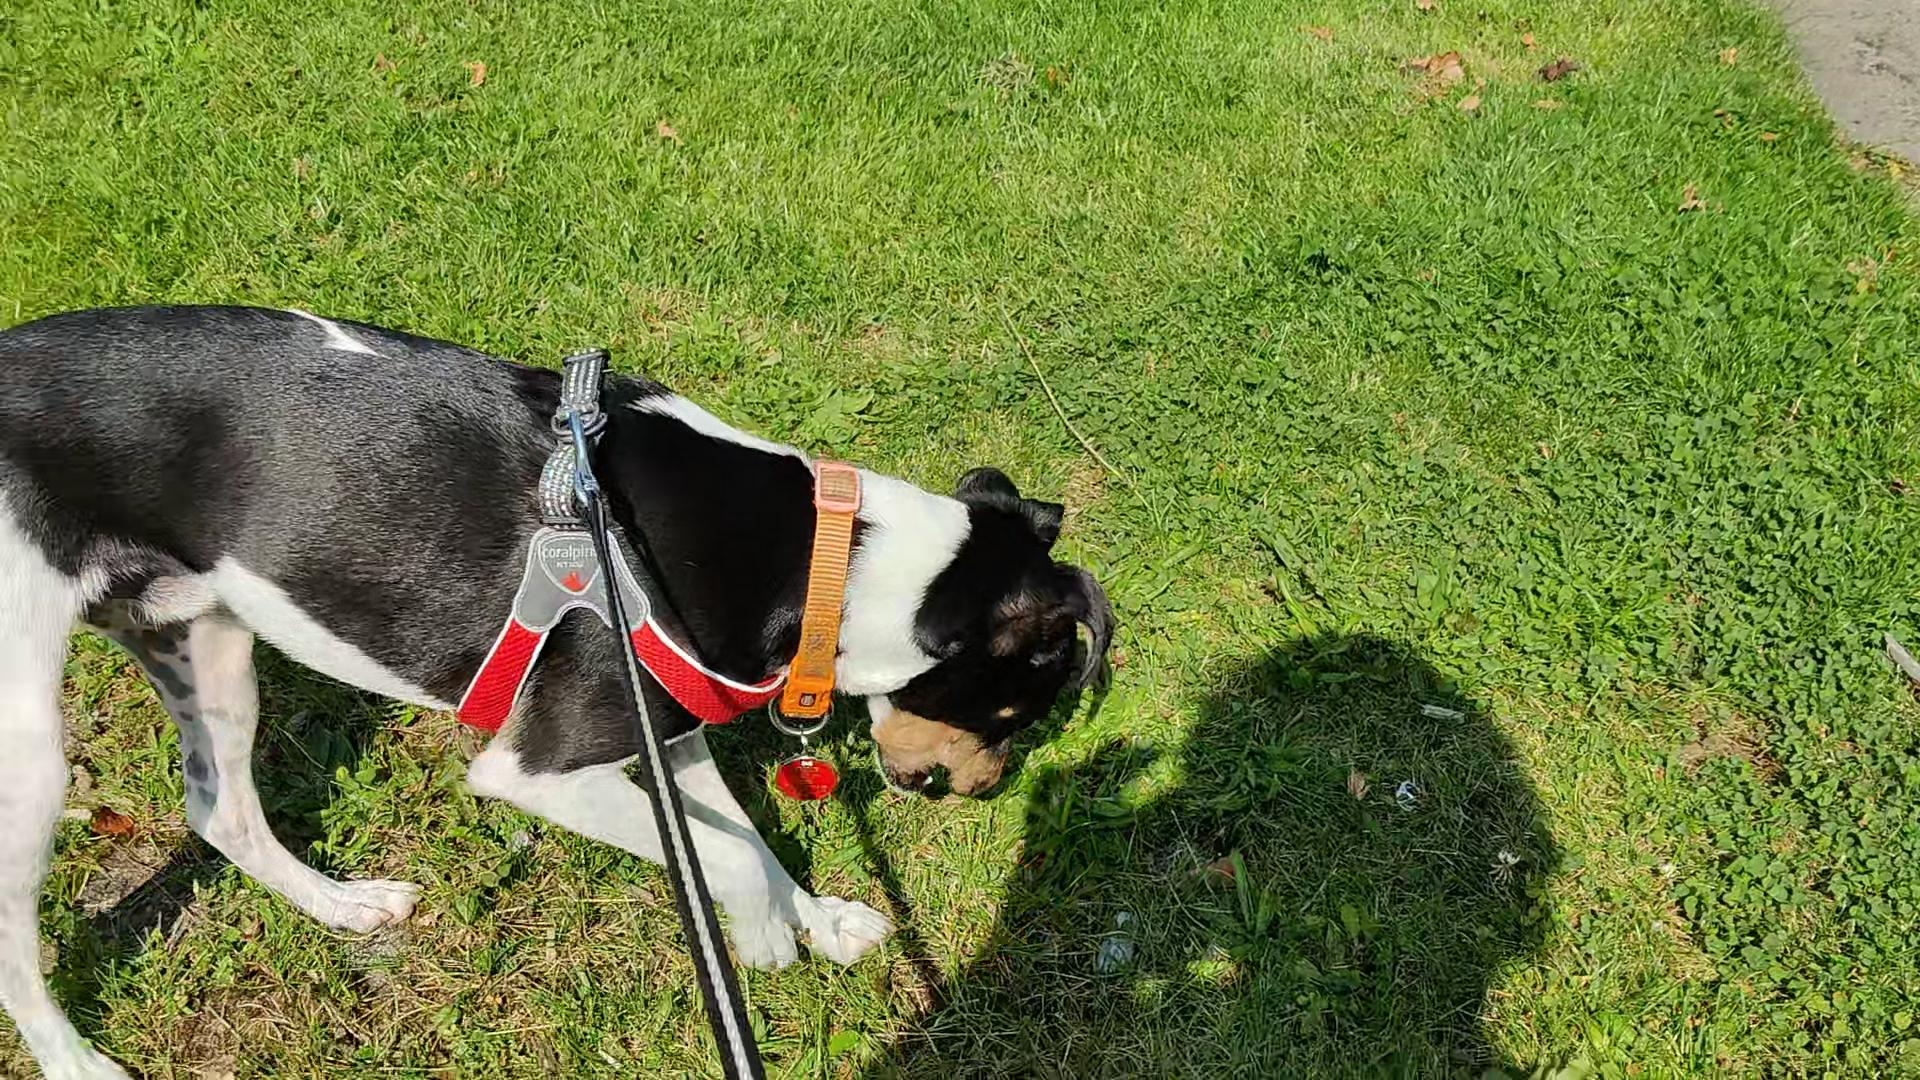Dog: (0, 298, 1120, 1079)
